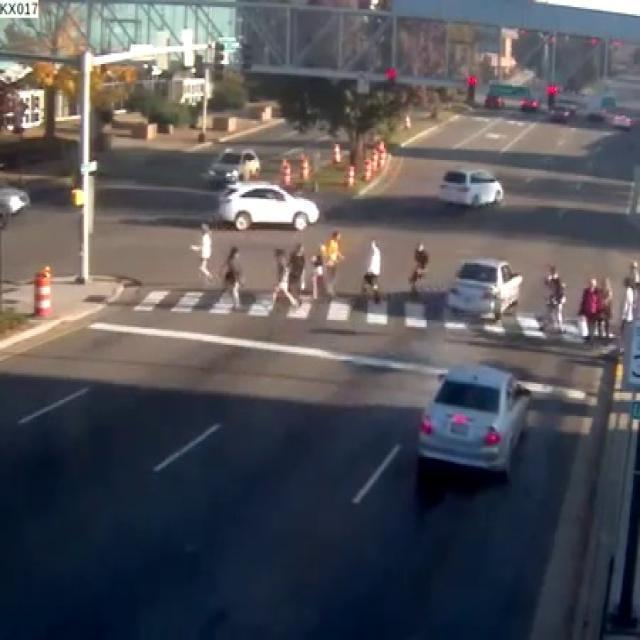car: (406, 375, 519, 488)
red_light: (464, 73, 476, 104), (544, 81, 557, 109)
stop_line: (90, 320, 585, 392)
